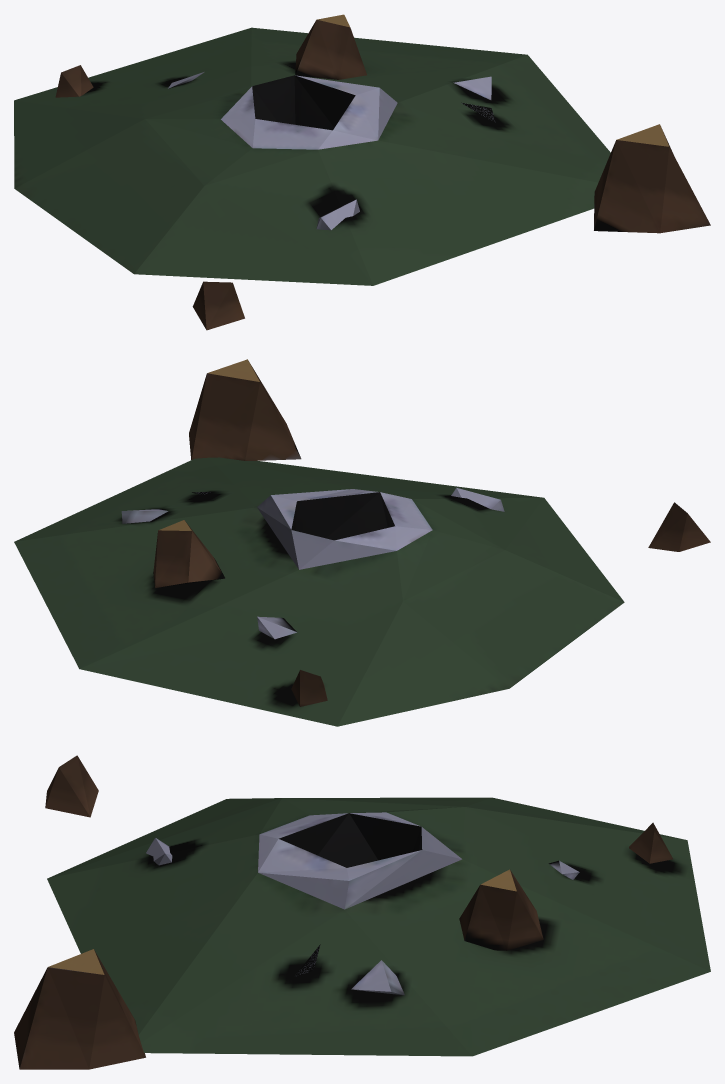
The model's file is waste_3_ruin_lod2.fbx.
3 views of the same model, one above another, from view 1: azimuth 30°, elevation 25°; view 2: azimuth 150°, elevation 25°; view 3: azimuth 270°, elevation 25° (orthographic). The views are drawn at different scales.
Parts seen in each view (by area): view 1: waste_3_ruin_LOD2; view 2: waste_3_ruin_LOD2; view 3: waste_3_ruin_LOD2.
Boxes of the visible parts, box(x1,y1,x2,y2) form: waste_3_ruin_LOD2: box(14, 14, 710, 330); waste_3_ruin_LOD2: box(14, 359, 710, 726); waste_3_ruin_LOD2: box(14, 755, 710, 1069).
Size of the model in its own units: 0.0286 by 0.00486 by 0.03.
